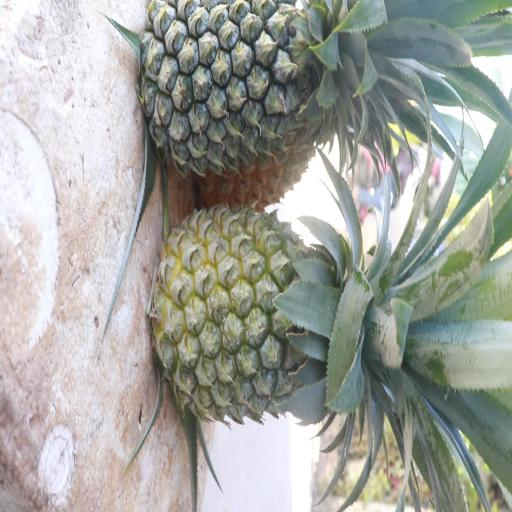------------------------------: (146, 197, 439, 435)
